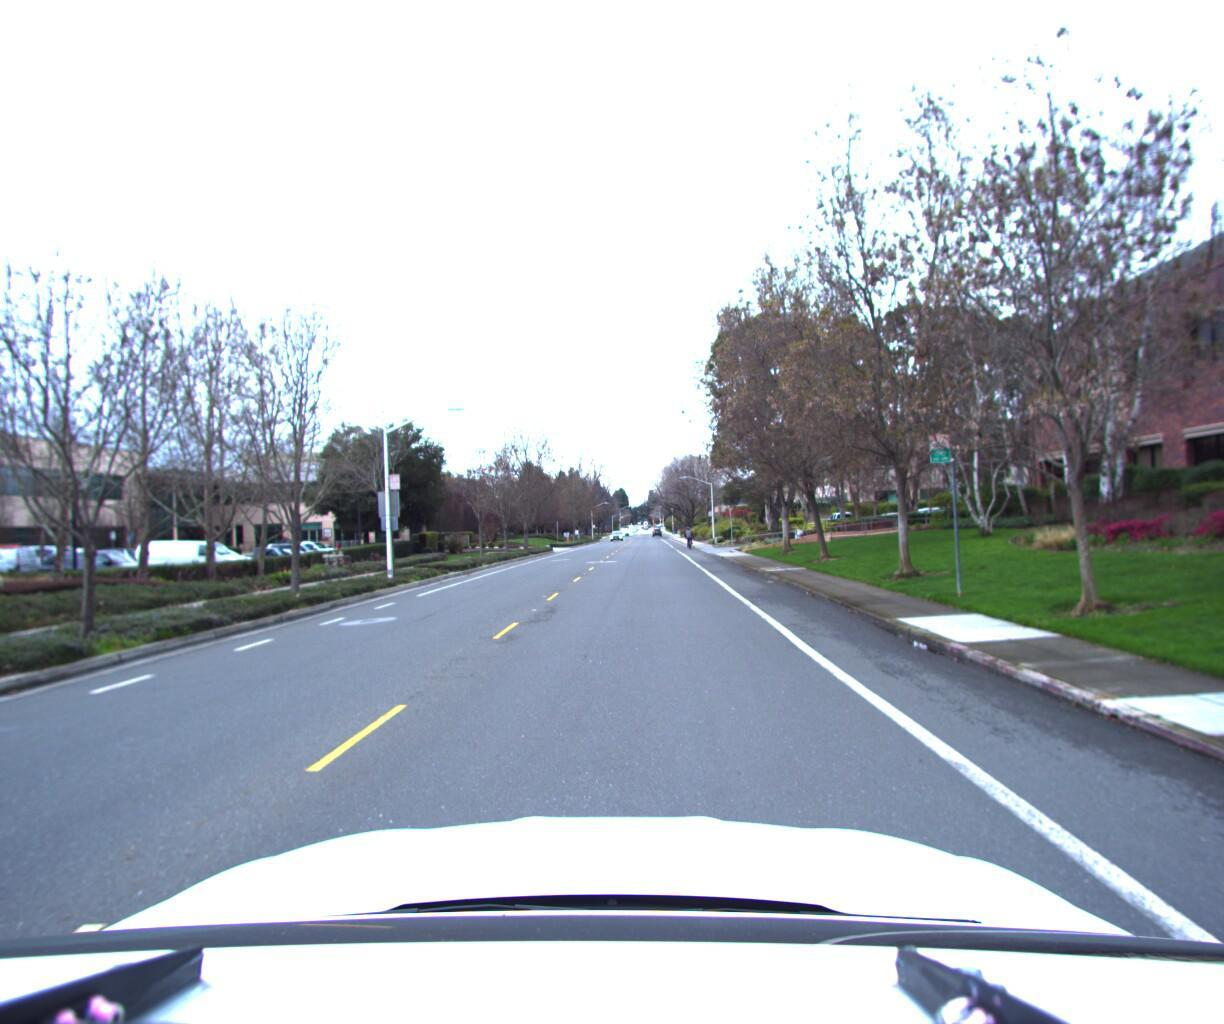bicycle: (680, 526, 697, 551)
